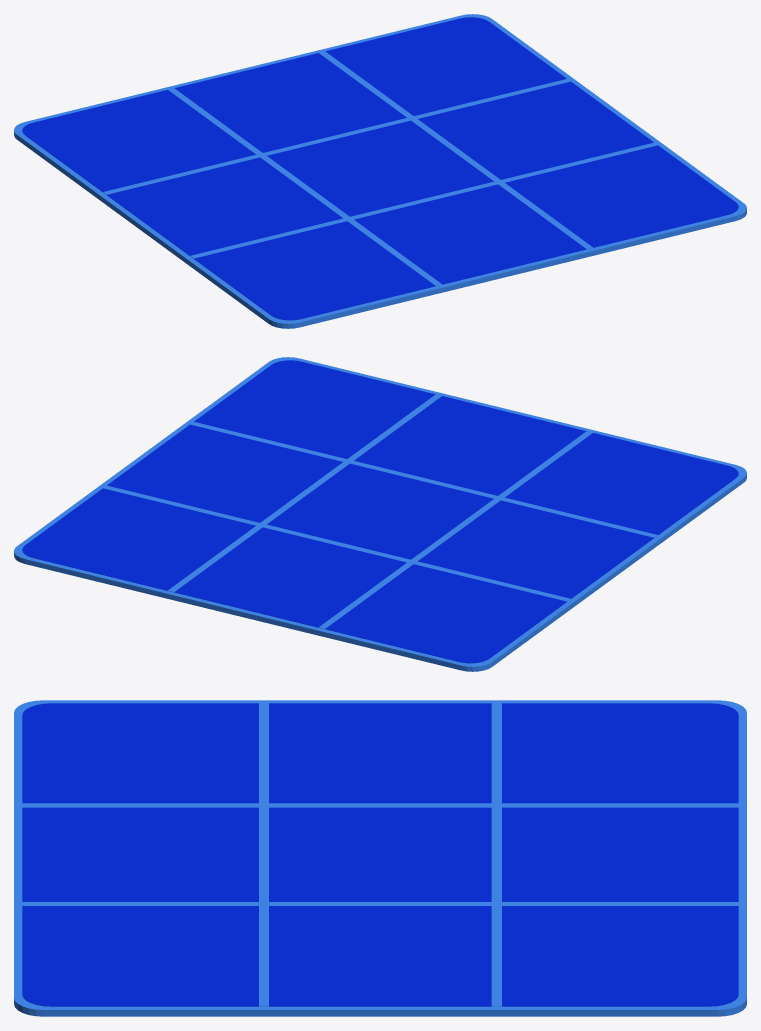
3 renders of one model, top to bottom at view 1: azimuth 30°, elevation 25°; view 2: azimuth 150°, elevation 25°; view 3: azimuth 270°, elevation 25°, orthographic. The views are drawn at different scales.
Visible parts, largest first — view 1: Grid; view 2: Grid; view 3: Grid.
Boxes of the visible parts, box(x1,y1,x2,y2) form: Grid: box(14, 14, 746, 328); Grid: box(14, 357, 746, 671); Grid: box(14, 700, 746, 1016).
Size of the model in its own units: 2.05 by 2.05 by 0.0241.
